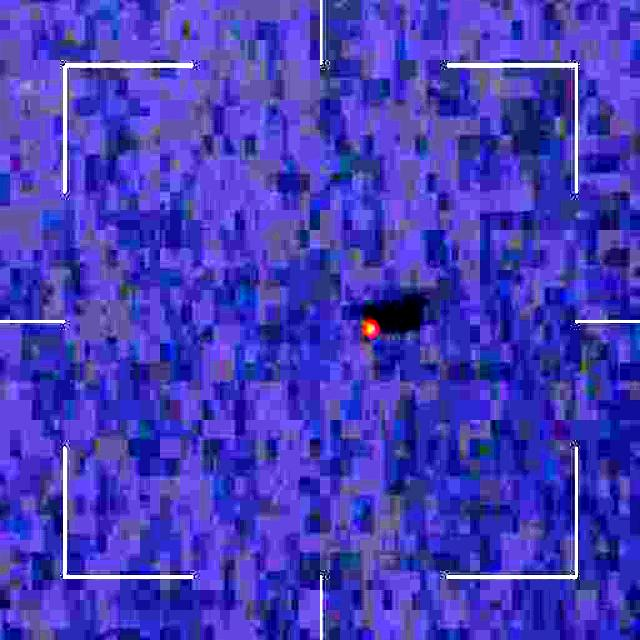bird: (358, 302, 380, 346)
